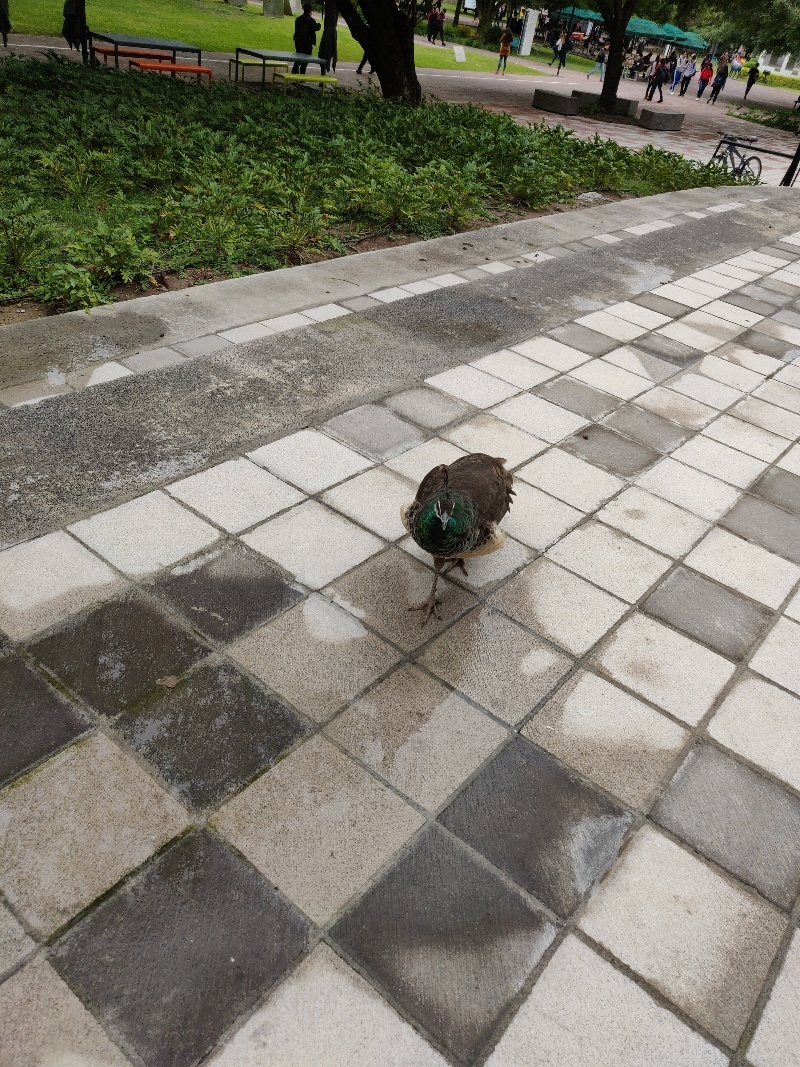pavoreal: (413, 450, 512, 635)
